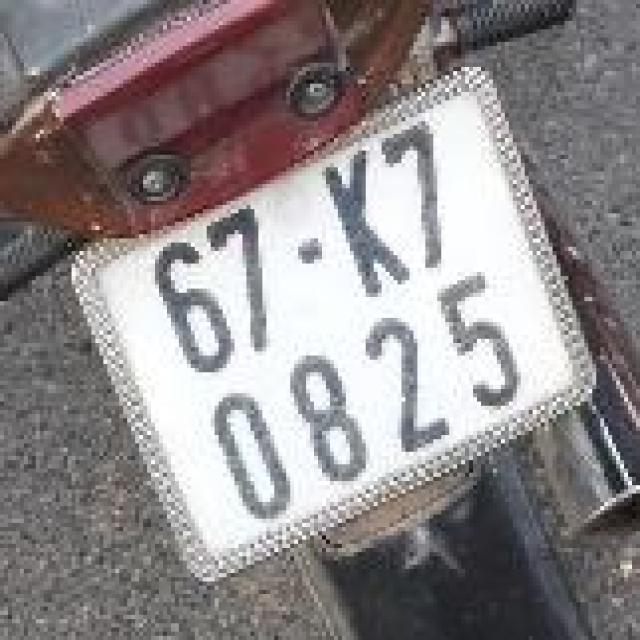0: (194, 375, 315, 535)
2: (345, 298, 465, 467)
5: (424, 256, 534, 418)
6: (141, 229, 249, 393)
7: (365, 111, 479, 287), (191, 198, 299, 369)
8: (270, 333, 382, 497)
K: (303, 135, 424, 313)
